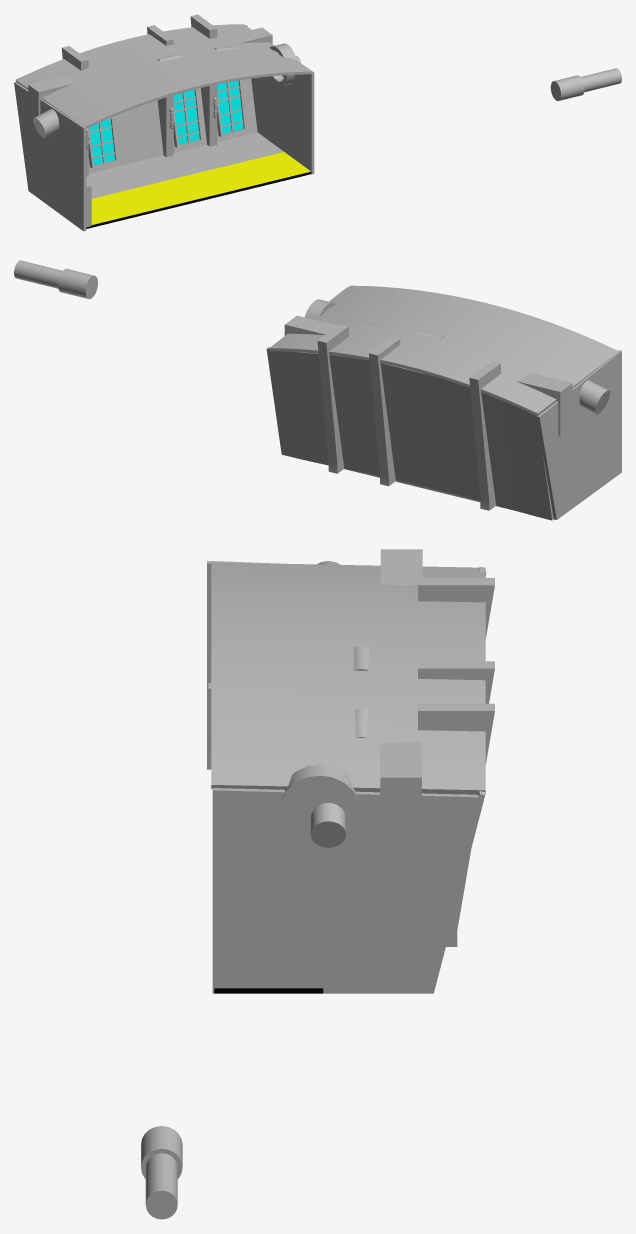
3 renders of one model, top to bottom at view 1: azimuth 30°, elevation 25°; view 2: azimuth 150°, elevation 25°; view 3: azimuth 270°, elevation 25°, orthographic. The views are drawn at different scales.
Visible parts, largest first — view 1: polySurface442, polySurface425, polySurface422, polySurface425.001, polySurface423, polySurface424, polySurface427, polySurface498, polySurface508, polySurface481, polySurface488, polySurface461 (+5 smaller); view 2: polySurface424, polySurface442, polySurface422, polySurface472, polySurface481, polySurface461, polySurface427, polySurface538, polySurface429, polySurface545; view 3: polySurface442, polySurface423, polySurface545, polySurface497, polySurface427, polySurface481, polySurface472, polySurface461, polySurface538, polySurface426, polySurface424, polySurface422.
Boxes of the visible parts, <box> form: polySurface442: <box>15,24,311,128</box>; polySurface425: <box>86,152,311,228</box>; polySurface422: <box>14,82,86,231</box>; polySurface425.001: <box>86,132,283,198</box>; polySurface423: <box>251,60,314,174</box>; polySurface424: <box>17,25,257,173</box>; polySurface427: <box>550,68,621,101</box>; polySurface498: <box>173,89,202,147</box>; polySurface508: <box>217,80,246,136</box>; polySurface481: <box>190,14,217,146</box>; polySurface488: <box>88,117,117,168</box>; polySurface461: <box>147,25,173,157</box>; polySurface424: <box>266,347,553,520</box>; polySurface442: <box>269,285,618,416</box>; polySurface422: <box>536,350,621,519</box>; polySurface472: <box>469,361,500,510</box>; polySurface481: <box>317,324,348,473</box>; polySurface461: <box>369,336,400,486</box>; polySurface427: <box>14,260,97,299</box>; polySurface538: <box>517,373,572,437</box>; polySurface429: <box>579,380,609,414</box>; polySurface545: <box>284,315,337,335</box>; polySurface442: <box>211,562,485,794</box>; polySurface423: <box>212,788,478,993</box>; polySurface545: <box>380,741,421,855</box>; polySurface497: <box>278,764,361,850</box>; polySurface427: <box>141,1126,182,1219</box>; polySurface481: <box>418,703,494,946</box>; polySurface472: <box>418,578,494,638</box>; polySurface461: <box>418,661,494,703</box>; polySurface538: <box>380,549,422,585</box>; polySurface426: <box>310,802,345,847</box>; polySurface424: <box>428,566,485,993</box>; polySurface422: <box>207,561,486,769</box>.
Bounding box in the file's own units: 3755 × 791 × 1067.
